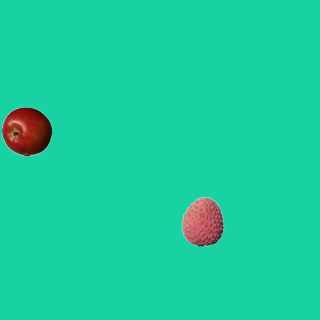Apple Braeburn: (1, 106, 51, 156)
Lychee: (177, 196, 227, 246)
